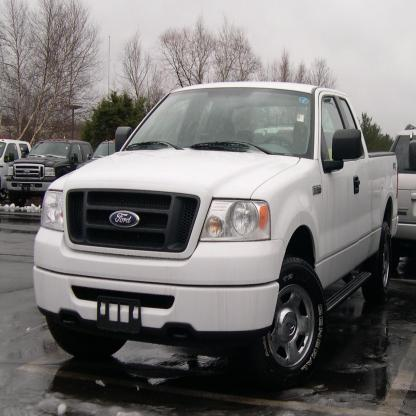Vehicle: (33, 81, 398, 380)
